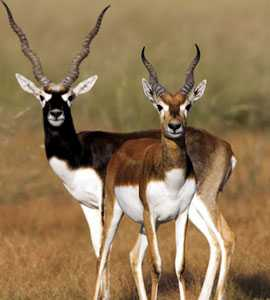Blackbuck: (2, 1, 236, 300), (89, 42, 207, 300)
